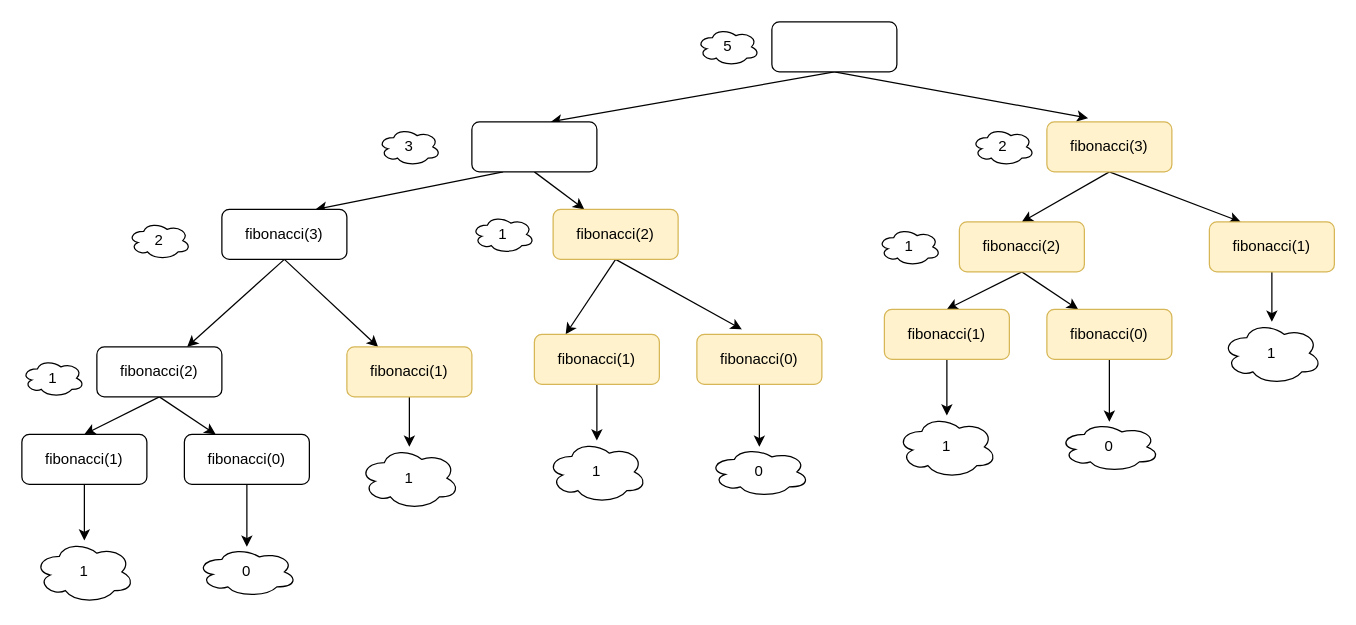
Some shapes in this 1356 by 625 pixel diagram are drawn without their labels. The centre of each missing label's shape, as x and y in pixels:
"fibonacci(4)" belongs at point (534, 146).
"fibonacci(5)" belongs at point (834, 46).
